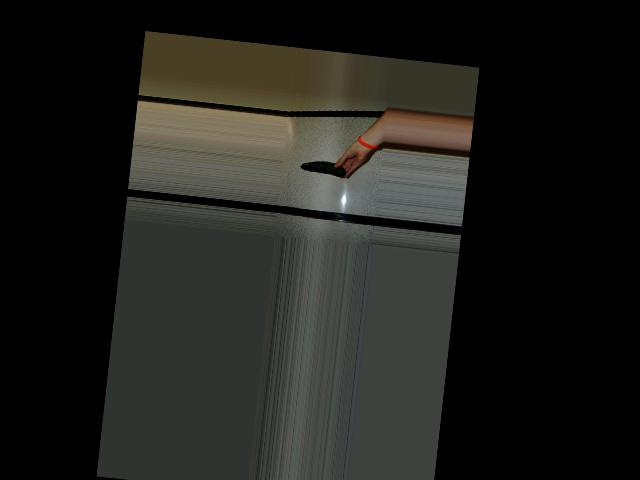cucumber: (299, 159, 347, 178)
